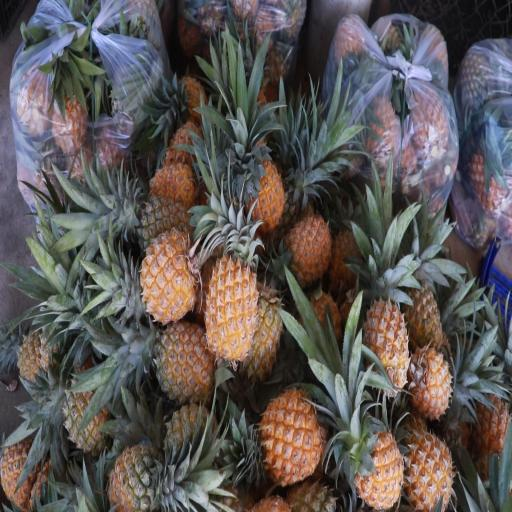------------------------------: (107, 428, 184, 511), (59, 360, 111, 446), (128, 190, 194, 255)
Pineapple - v8 v1: (207, 228, 260, 378), (262, 384, 328, 487), (145, 310, 216, 405), (139, 225, 202, 325), (361, 284, 410, 408), (398, 415, 455, 512), (238, 275, 284, 389), (350, 418, 406, 510), (464, 382, 512, 483), (236, 138, 286, 230), (283, 206, 338, 284), (405, 335, 455, 418), (402, 270, 446, 364), (0, 426, 44, 506), (147, 155, 200, 214), (171, 66, 214, 125), (12, 327, 54, 385)
